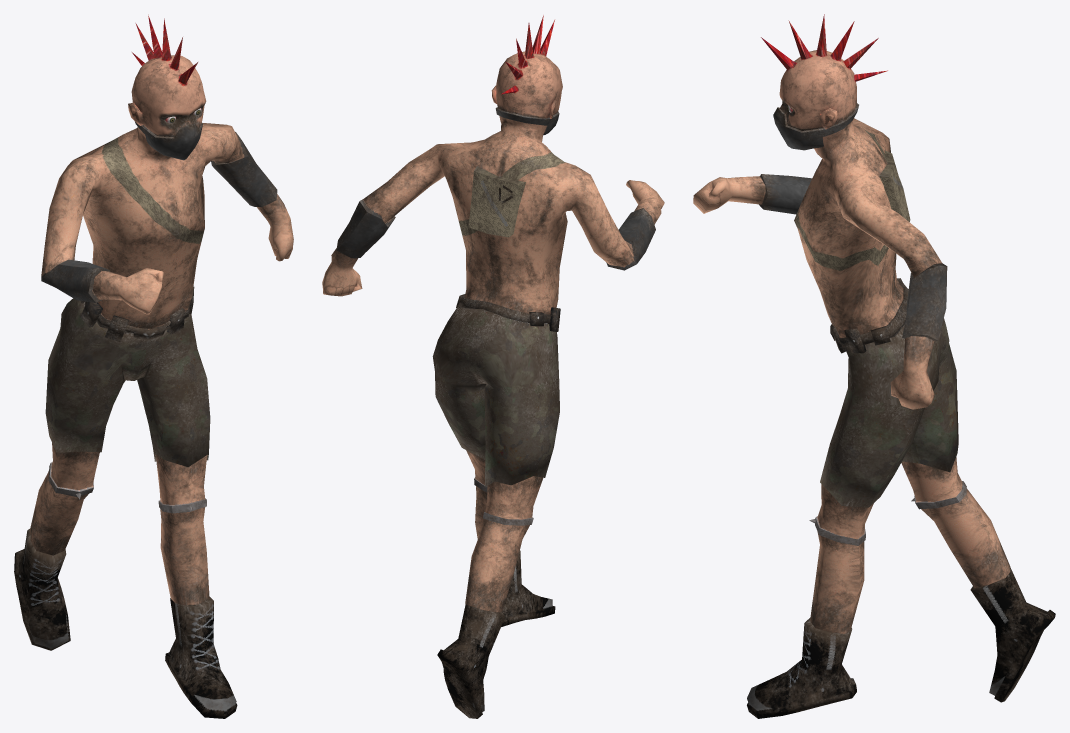
The model's file is Anim_correr_npc2.0036.obj.
3 views of the same model, side by side, from view 1: azimuth 30°, elevation 25°; view 2: azimuth 150°, elevation 25°; view 3: azimuth 270°, elevation 25° (orthographic). The views are drawn at different scales.
Parts seen in each view (by area): view 1: Anim_correr_npc2; view 2: Anim_correr_npc2; view 3: Anim_correr_npc2.
Part boxes in pixels (x1,y1,x2,y2): Anim_correr_npc2: (14, 14, 293, 718); Anim_correr_npc2: (322, 15, 664, 718); Anim_correr_npc2: (693, 14, 1055, 718).
Bounding box in the file's own units: 4.71 × 10.48 × 4.93.
